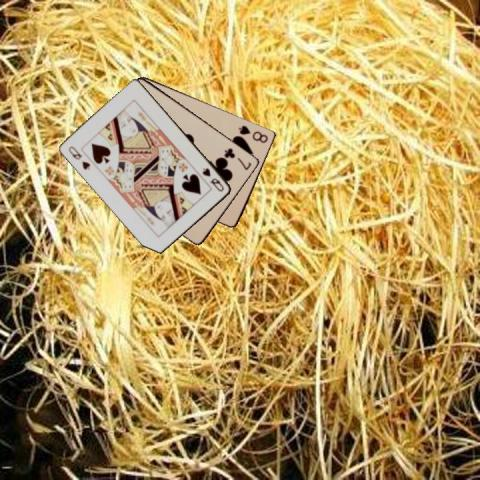7c: (222, 145, 253, 171)
8s: (236, 122, 270, 145)
Qs: (199, 165, 226, 193), (65, 143, 92, 171)
